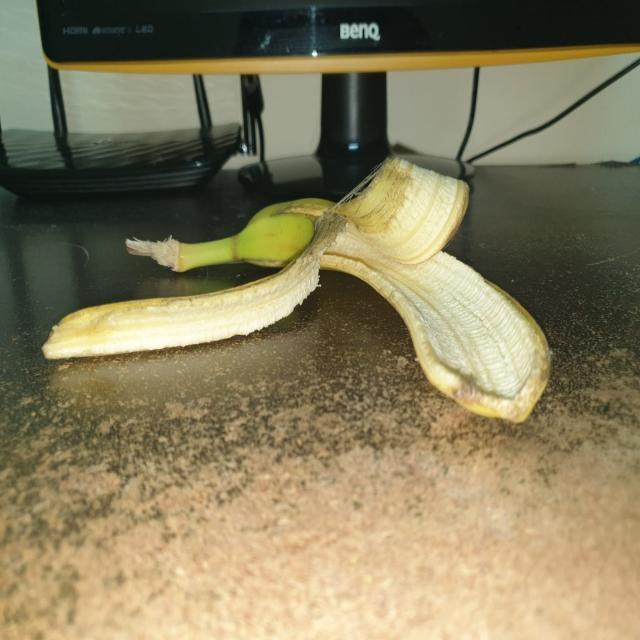banana-peel: (40, 154, 551, 424)
